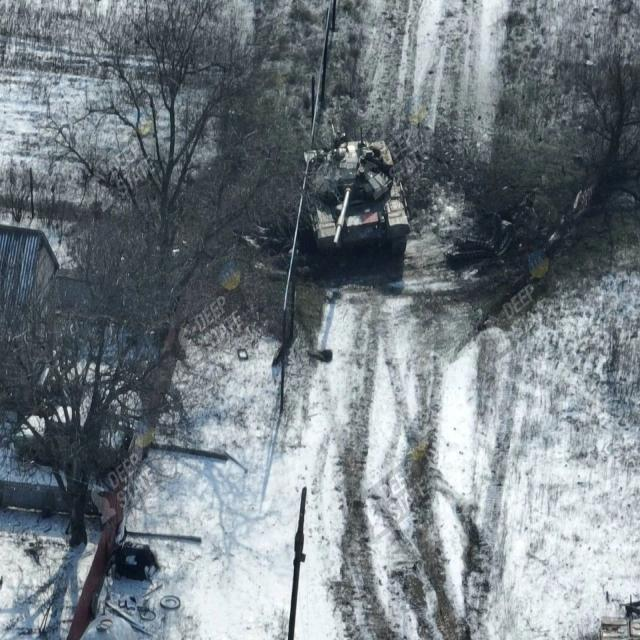MBT: (303, 136, 412, 259)
